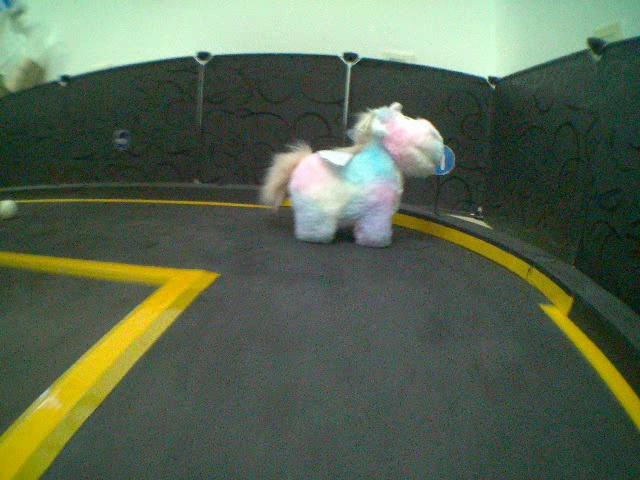unicorn: (260, 97, 445, 252)
